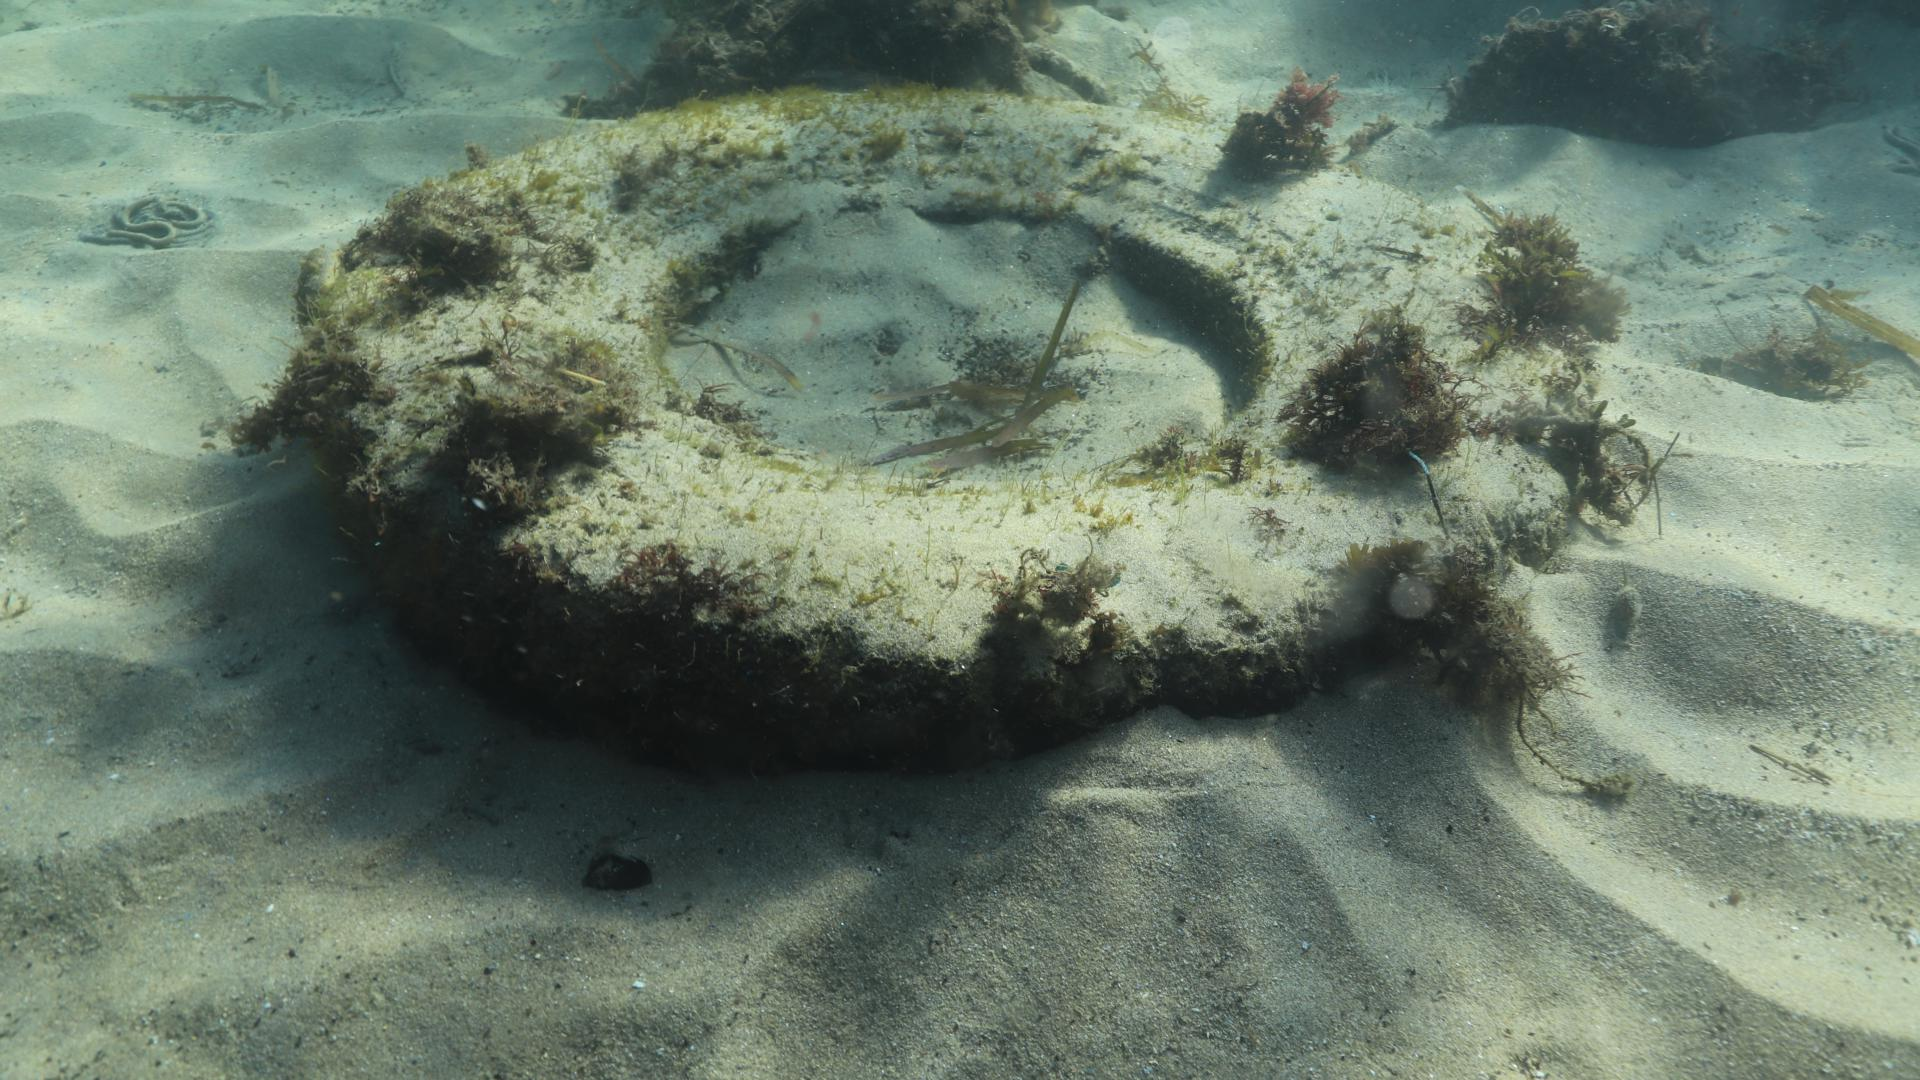tire: (318, 82, 1590, 775)
